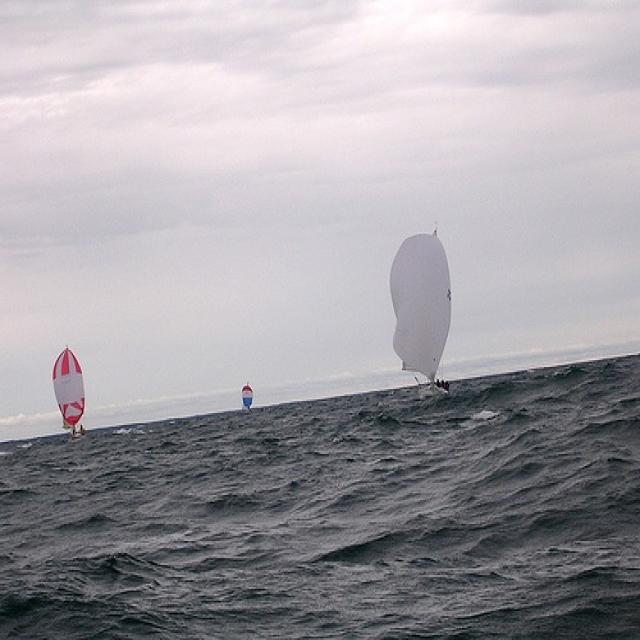boat: (389, 230, 455, 400), (50, 346, 90, 442), (236, 379, 258, 421)
